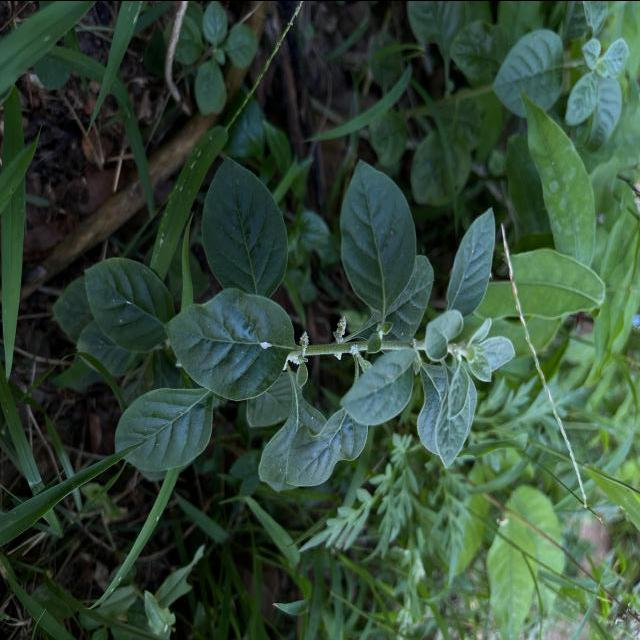Aerva lanata: (162, 284, 295, 402), (200, 152, 290, 302), (338, 156, 420, 318), (82, 252, 178, 354), (113, 384, 216, 474), (284, 403, 372, 489), (444, 203, 499, 318)
